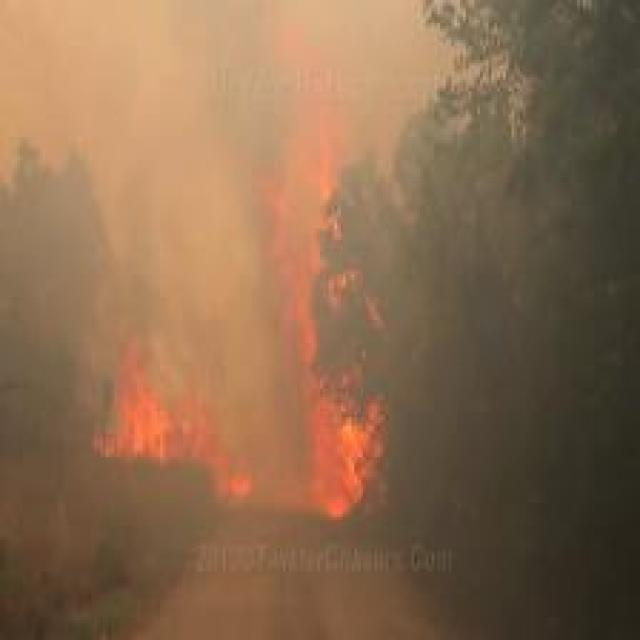Fire: (254, 95, 392, 528), (97, 342, 260, 504)
